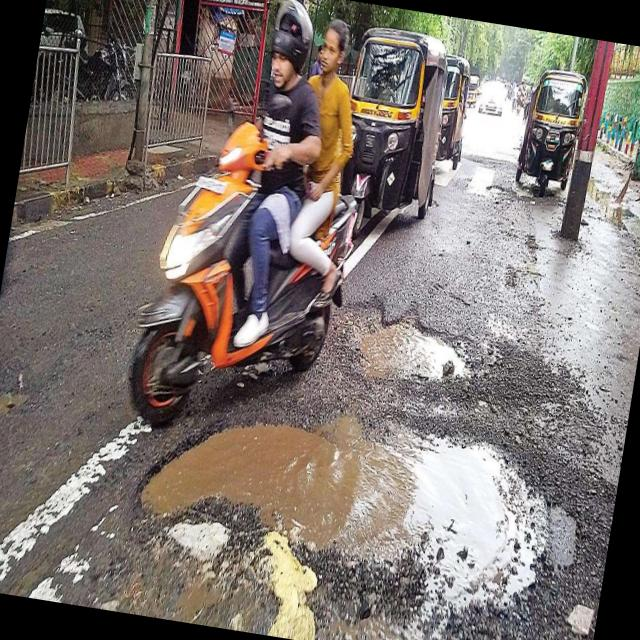Potholes: (107, 358, 582, 640), (310, 272, 488, 408)
